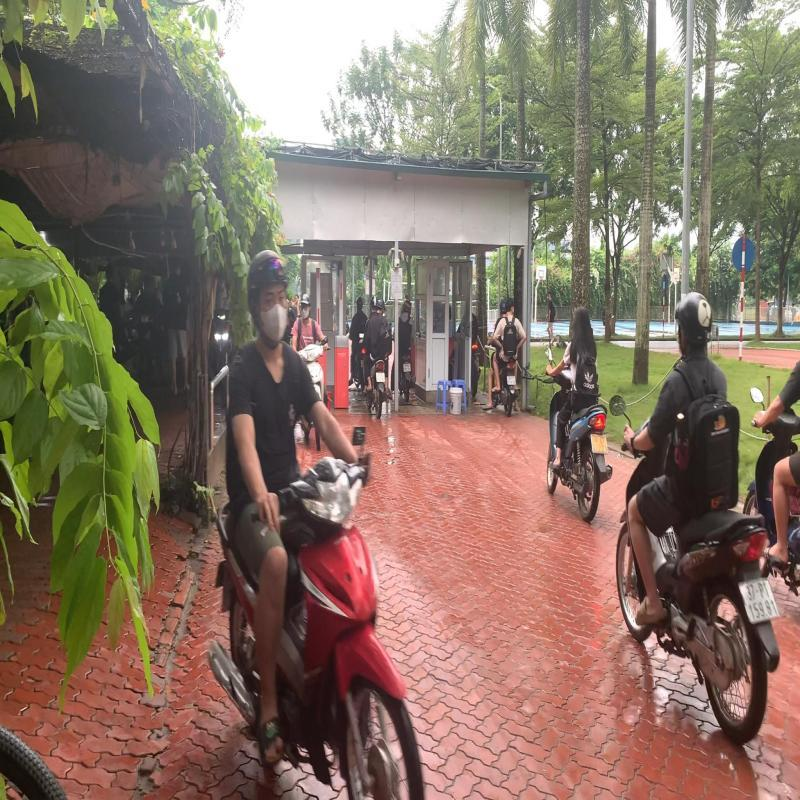nohelmet: (569, 304, 592, 339), (506, 297, 514, 314)
